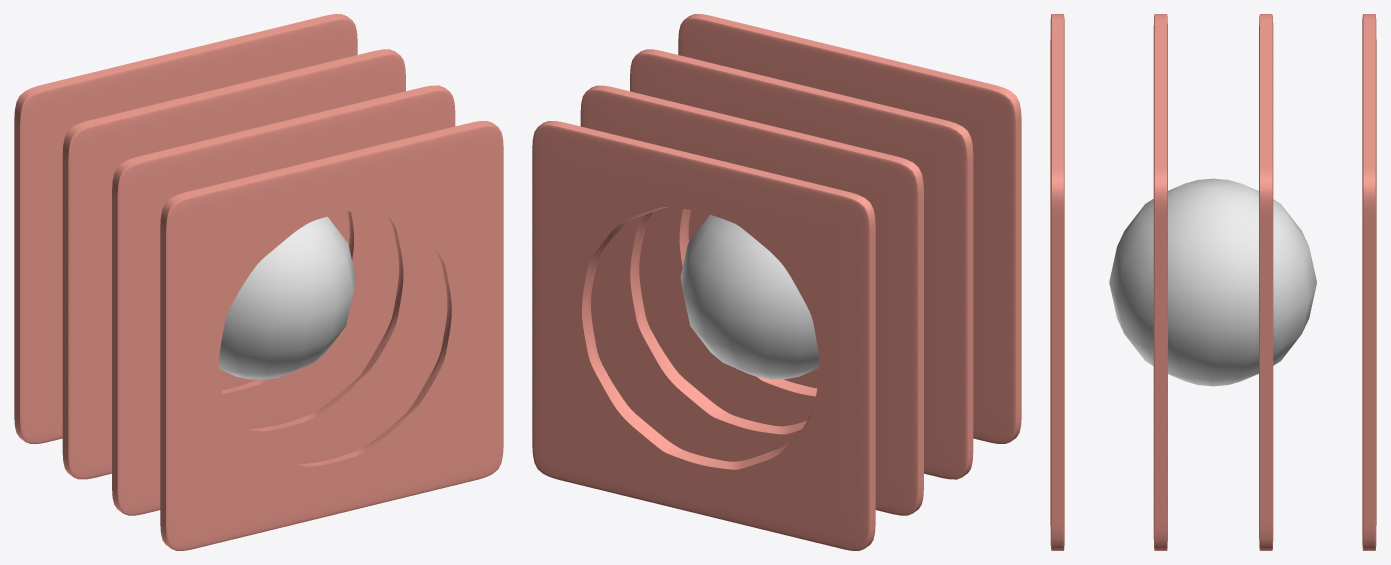
The picture shows the model from 3 angles, left to right: view 1: azimuth 30°, elevation 25°; view 2: azimuth 150°, elevation 25°; view 3: azimuth 270°, elevation 25°; orthographic projection. The views are drawn at different scales.
Visible parts, largest first — view 1: Subdivision Surface, Subdivision Surface.1, Subdivision Surface.2, Subdivision Surface.3, Sphere; view 2: Subdivision Surface.3, Subdivision Surface.2, Subdivision Surface.1, Subdivision Surface, Sphere; view 3: Sphere, Subdivision Surface.3, Subdivision Surface, Subdivision Surface.2, Subdivision Surface.1.
Part boxes in pixels (x1,y1,x2,y2): Subdivision Surface: [160, 121, 503, 550]; Subdivision Surface.1: [112, 85, 455, 515]; Subdivision Surface.2: [62, 49, 405, 479]; Subdivision Surface.3: [14, 14, 357, 443]; Sphere: [219, 216, 355, 379]; Subdivision Surface.3: [532, 121, 875, 550]; Subdivision Surface.2: [580, 85, 923, 515]; Subdivision Surface.1: [630, 49, 973, 479]; Subdivision Surface: [678, 14, 1021, 443]; Sphere: [680, 214, 819, 379]; Sphere: [1109, 178, 1316, 386]; Subdivision Surface.3: [1362, 14, 1376, 550]; Subdivision Surface: [1050, 14, 1064, 550]; Subdivision Surface.2: [1259, 14, 1273, 550]; Subdivision Surface.1: [1153, 14, 1167, 550].
Bounding box in the file's own units: 200 × 200 × 157.
